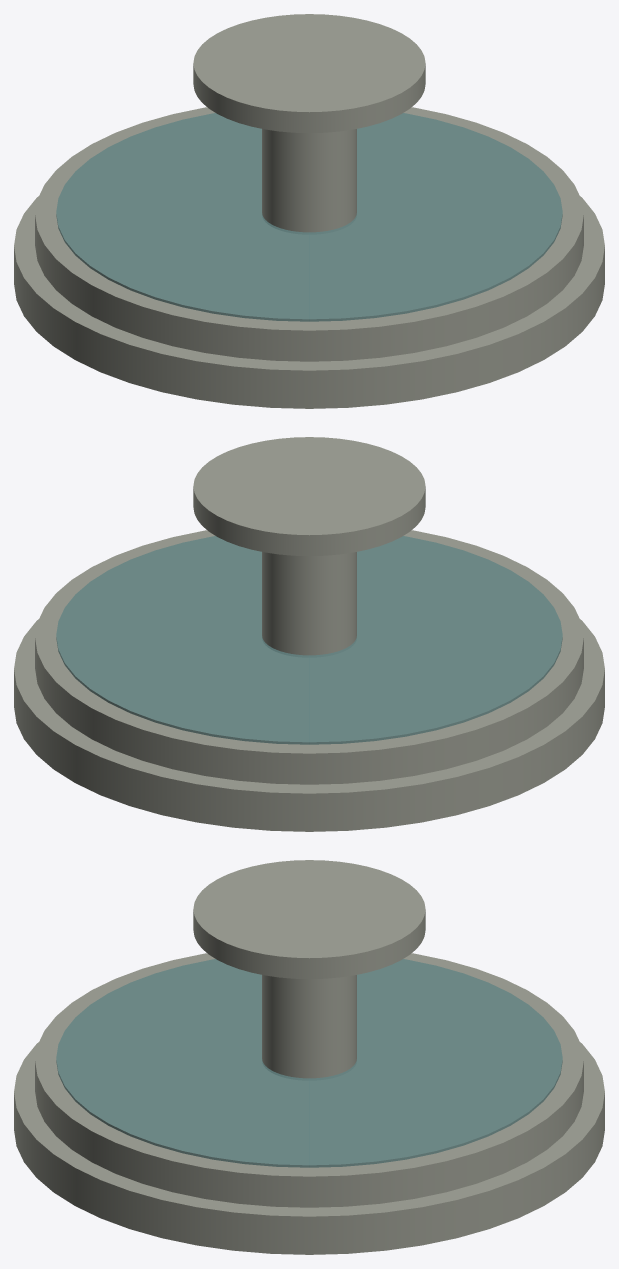
The model's file is park-fountain.glb.
3 renders of one model, top to bottom at view 1: azimuth 30°, elevation 25°; view 2: azimuth 150°, elevation 25°; view 3: azimuth 270°, elevation 25°, orthographic.
Bounding box in the file's own units: 5.6 × 2.31 × 5.6.
